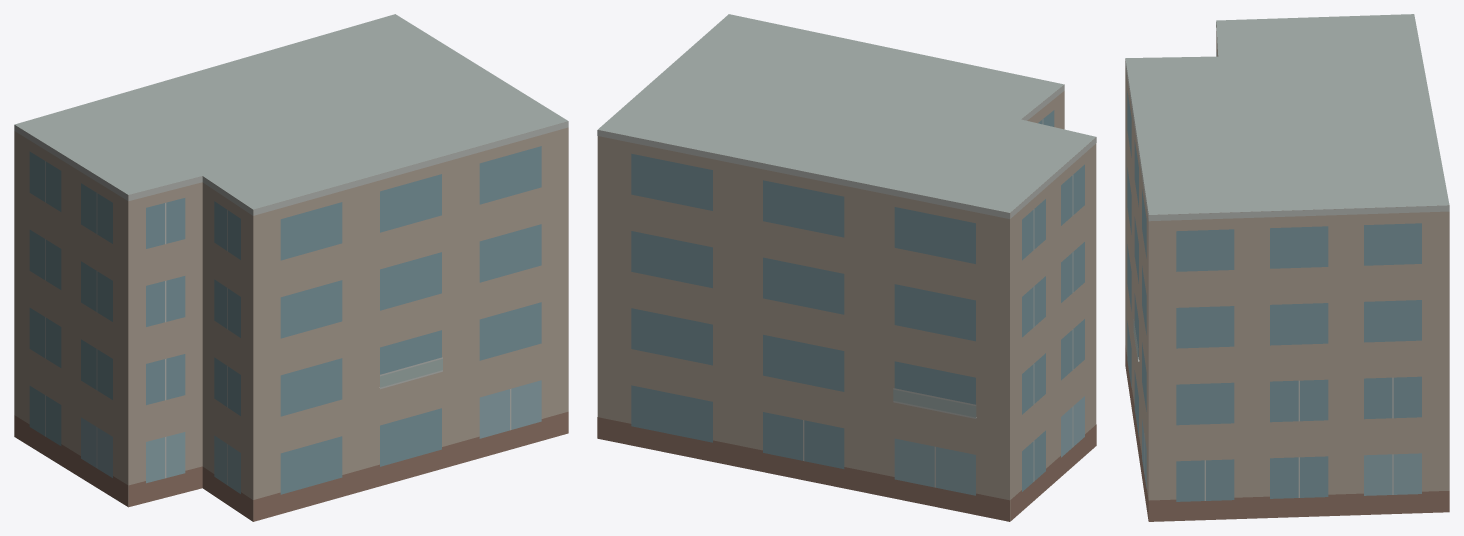
The model's file is survey-upis-32735358.glb.
The picture shows the model from 3 angles, left to right: view 1: azimuth 30°, elevation 25°; view 2: azimuth 150°, elevation 25°; view 3: azimuth 270°, elevation 25°; orthographic projection.
Parts seen in each view (by area): view 1: survey-upis-32735358.tmp; view 2: survey-upis-32735358.tmp; view 3: survey-upis-32735358.tmp.
Boxes of the visible parts, x1=… form: survey-upis-32735358.tmp: x1=14, y1=14, x2=568, y2=521; survey-upis-32735358.tmp: x1=597, y1=14, x2=1096, y2=521; survey-upis-32735358.tmp: x1=1125, y1=14, x2=1449, y2=521.
Size of the model in its own units: 17.16 by 12.2 by 11.7.
